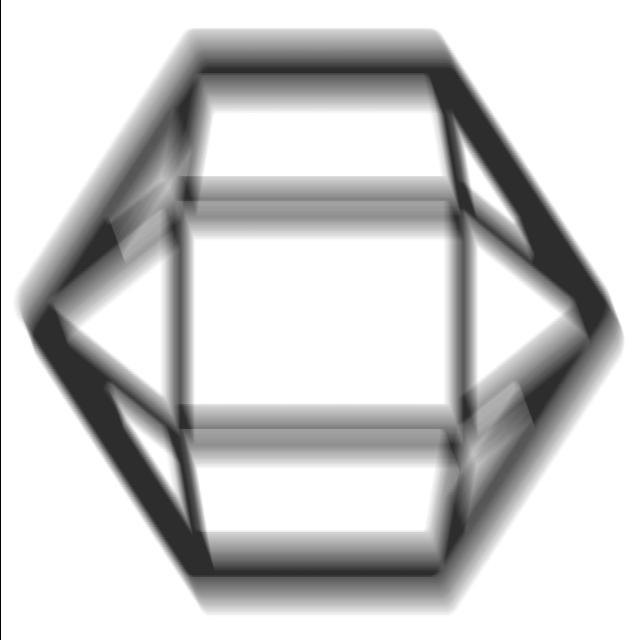crystal: (6, 16, 628, 636)
